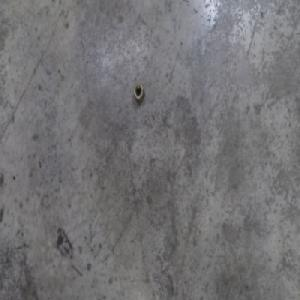Nut: (132, 81, 145, 104)
